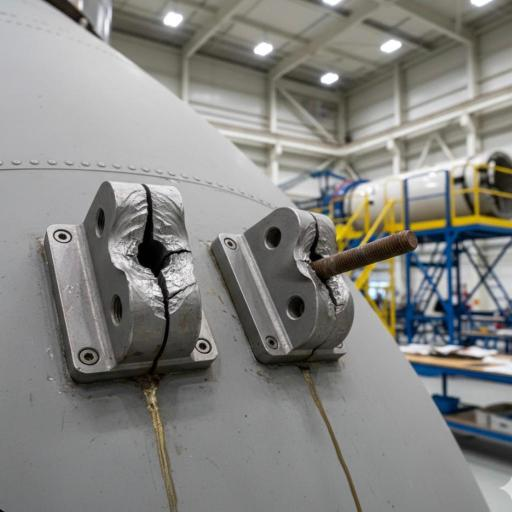fastening deformation: (81, 175, 211, 374), (263, 190, 353, 366)
